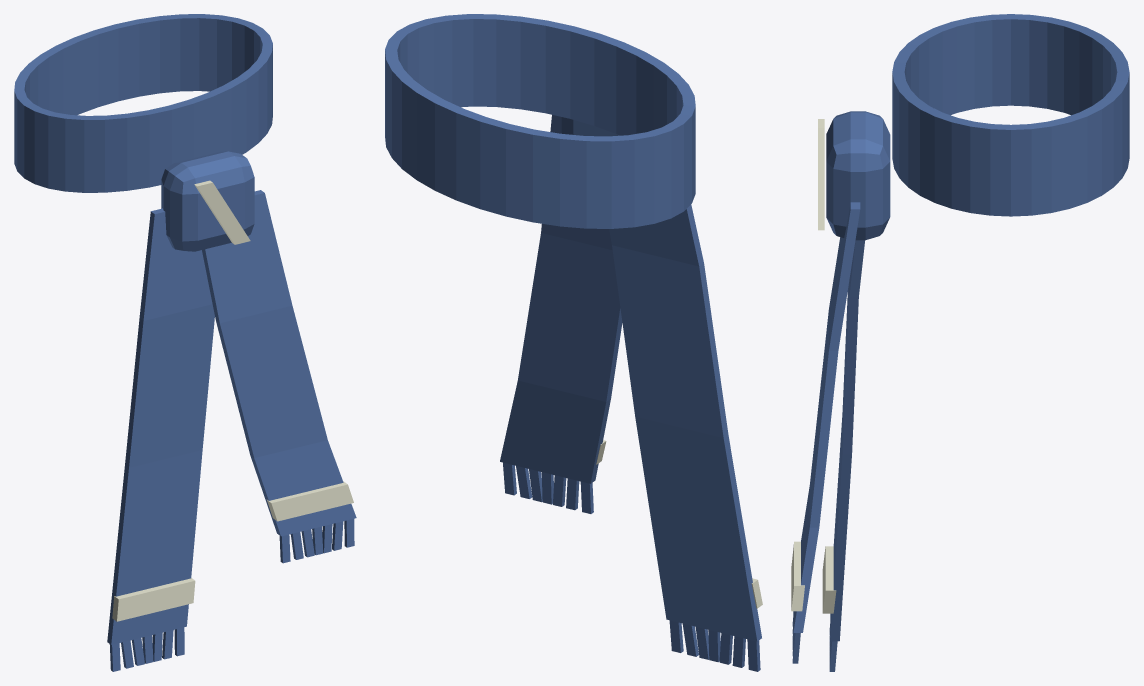
File: scarf_knotted.glb
The picture shows the model from 3 angles, left to right: view 1: azimuth 30°, elevation 25°; view 2: azimuth 150°, elevation 25°; view 3: azimuth 270°, elevation 25°; orthographic projection. The views are drawn at different scales.
Parts seen in each view (by area): view 1: KnottedScarf_Neck_Wrap, KnottedScarf_Long_Tail, KnottedScarf_Short_Tail, KnottedScarf_Folded_Knot, KnottedScarf_Long_Stripe, KnottedScarf_Short_Stripe, KnottedScarf_Knot_Fold; view 2: KnottedScarf_Neck_Wrap, KnottedScarf_Long_Tail, KnottedScarf_Short_Tail, KnottedScarf_Folded_Knot; view 3: KnottedScarf_Neck_Wrap, KnottedScarf_Folded_Knot, KnottedScarf_Short_Tail, KnottedScarf_Long_Tail, KnottedScarf_Long_Stripe, KnottedScarf_Knot_Fold, KnottedScarf_Short_Stripe.
Part boxes in pixels (x1,y1,x2,y2): KnottedScarf_Neck_Wrap: [14, 14, 272, 192]; KnottedScarf_Long_Tail: [107, 208, 214, 644]; KnottedScarf_Short_Tail: [202, 190, 356, 536]; KnottedScarf_Folded_Knot: [161, 151, 254, 251]; KnottedScarf_Long_Stripe: [112, 578, 195, 621]; KnottedScarf_Short_Stripe: [267, 481, 353, 521]; KnottedScarf_Knot_Fold: [194, 180, 250, 244]; KnottedScarf_Neck_Wrap: [385, 14, 695, 228]; KnottedScarf_Long_Tail: [609, 204, 761, 641]; KnottedScarf_Short_Tail: [500, 115, 622, 483]; KnottedScarf_Folded_Knot: [561, 117, 619, 136]; KnottedScarf_Neck_Wrap: [892, 14, 1129, 216]; KnottedScarf_Folded_Knot: [826, 111, 890, 240]; KnottedScarf_Short_Tail: [793, 202, 860, 632]; KnottedScarf_Long_Tail: [830, 240, 864, 641]; KnottedScarf_Long_Stripe: [822, 546, 836, 613]; KnottedScarf_Knot_Fold: [818, 119, 824, 230]; KnottedScarf_Short_Stripe: [791, 541, 804, 611].
Bounding box in the file's own units: 0.242 × 0.511 × 0.248.
